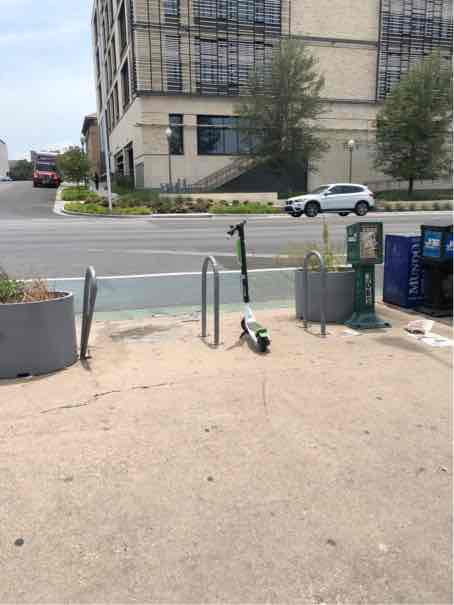scooter: (201, 211, 272, 349)
